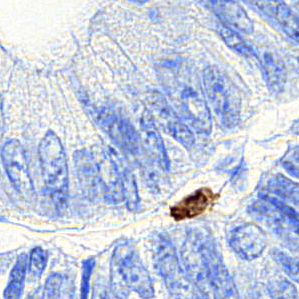Lymphocyte: (170, 186, 216, 219)
